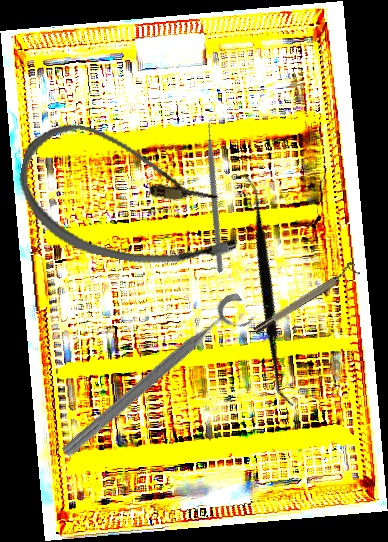Cannula: (7, 115, 254, 283)
Chopper: (142, 112, 296, 274)
Fixation Ring: (57, 289, 259, 473), (249, 260, 361, 336)
Spatula Surgical: (156, 172, 381, 408)
